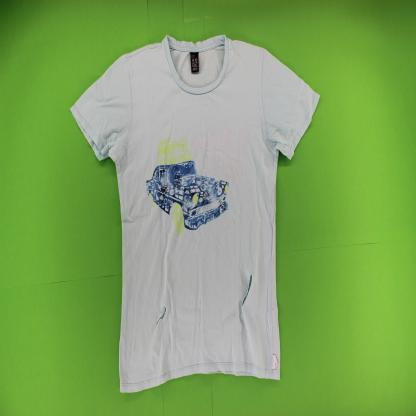hole: (240, 271, 253, 308), (155, 304, 168, 328)
